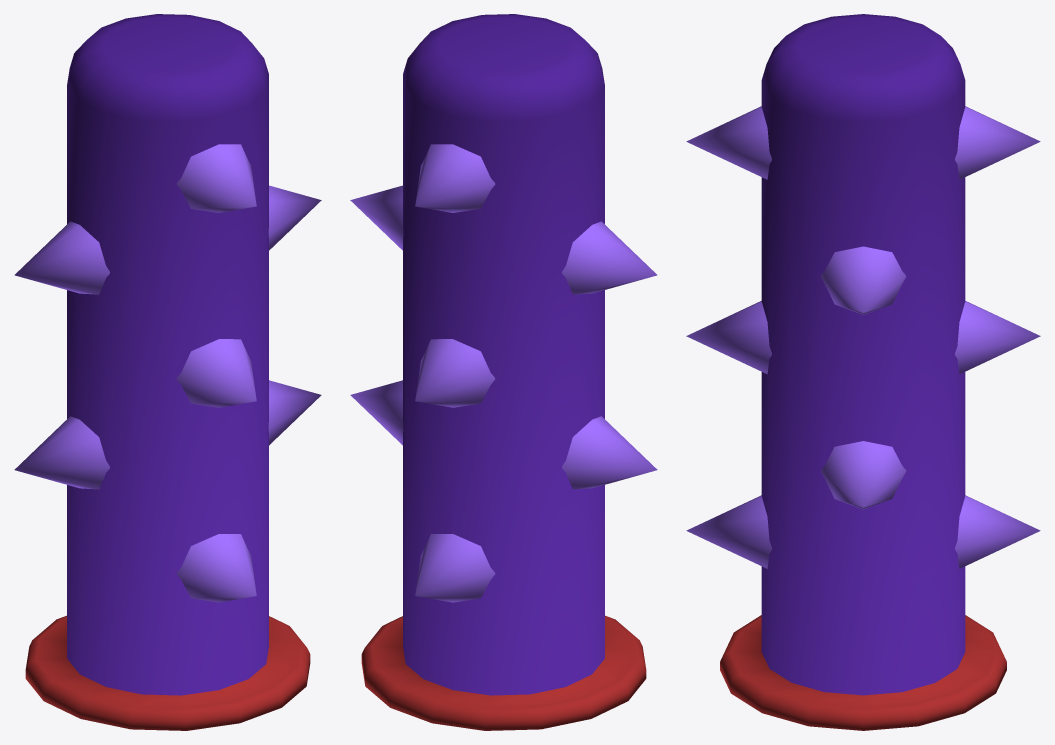
Rendered from obstacle.fbx.
The picture shows the model from 3 angles, left to right: view 1: azimuth 30°, elevation 25°; view 2: azimuth 150°, elevation 25°; view 3: azimuth 270°, elevation 25°; orthographic projection.
Visible parts, largest first — view 1: Cylinder, Cone.002, Cone.001; view 2: Cylinder, Cone.002, Cone.001; view 3: Cylinder, Cone.002, Cone.001.
Boxes of the visible parts, x1=… form: Cylinder: x1=25, y1=14, x2=310, y2=730; Cone.002: x1=176, y1=144, x2=256, y2=602; Cone.001: x1=14, y1=185, x2=321, y2=489; Cylinder: x1=361, y1=14, x2=646, y2=730; Cone.002: x1=415, y1=144, x2=495, y2=602; Cone.001: x1=350, y1=185, x2=657, y2=489; Cylinder: x1=720, y1=14, x2=1006, y2=730; Cone.002: x1=686, y1=106, x2=1040, y2=568; Cone.001: x1=820, y1=246, x2=906, y2=509.
Size of the model in its own units: 349 by 678 by 349.
